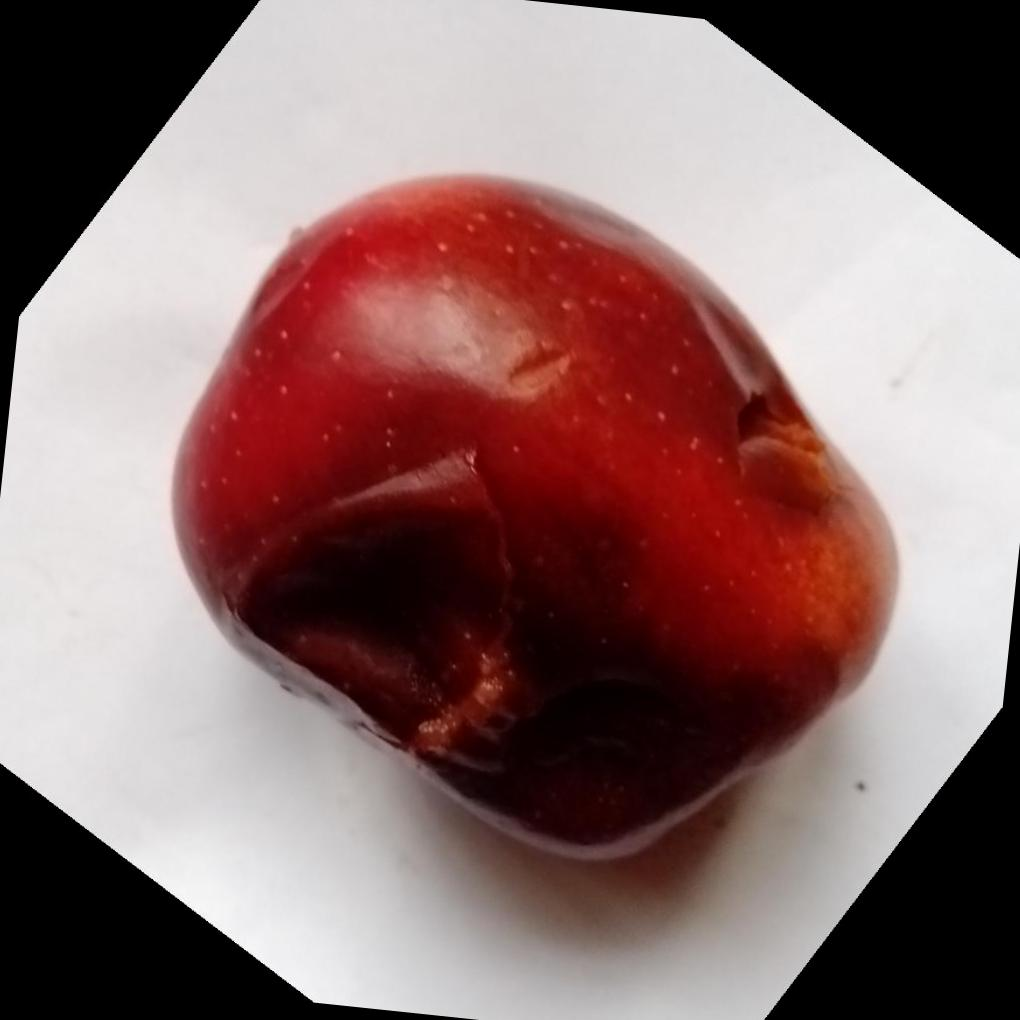FreshOrange: (163, 167, 903, 860)
